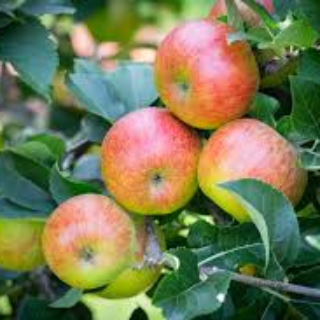tao: (152, 14, 260, 131), (100, 105, 202, 216), (42, 192, 137, 292)
